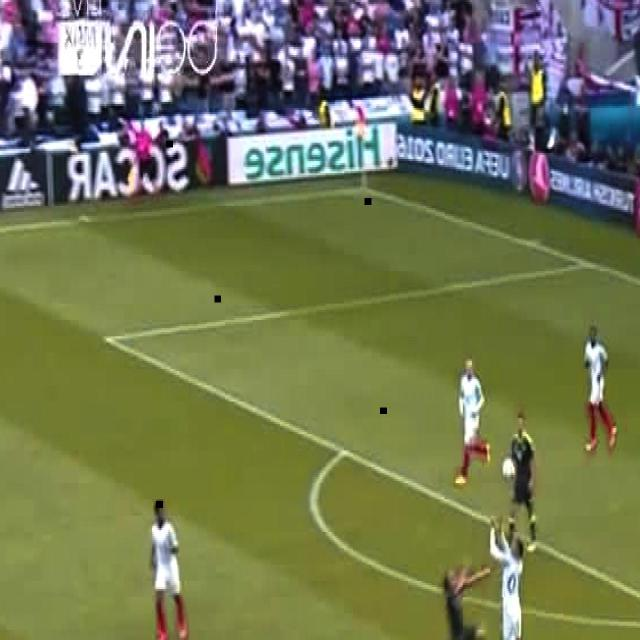ball: (500, 457, 516, 482)
player-white: (490, 511, 532, 640), (151, 499, 189, 640), (454, 358, 491, 488), (584, 327, 618, 455), (504, 416, 536, 551), (443, 558, 489, 640), (137, 120, 157, 208)
